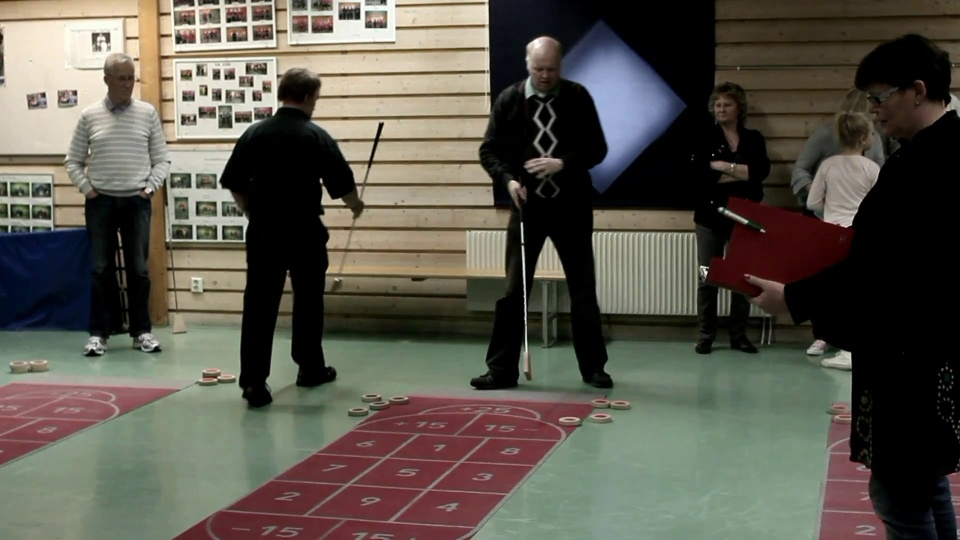person: (788, 42, 960, 540), (467, 32, 632, 400), (221, 65, 366, 405), (67, 55, 169, 362), (693, 82, 776, 362)
